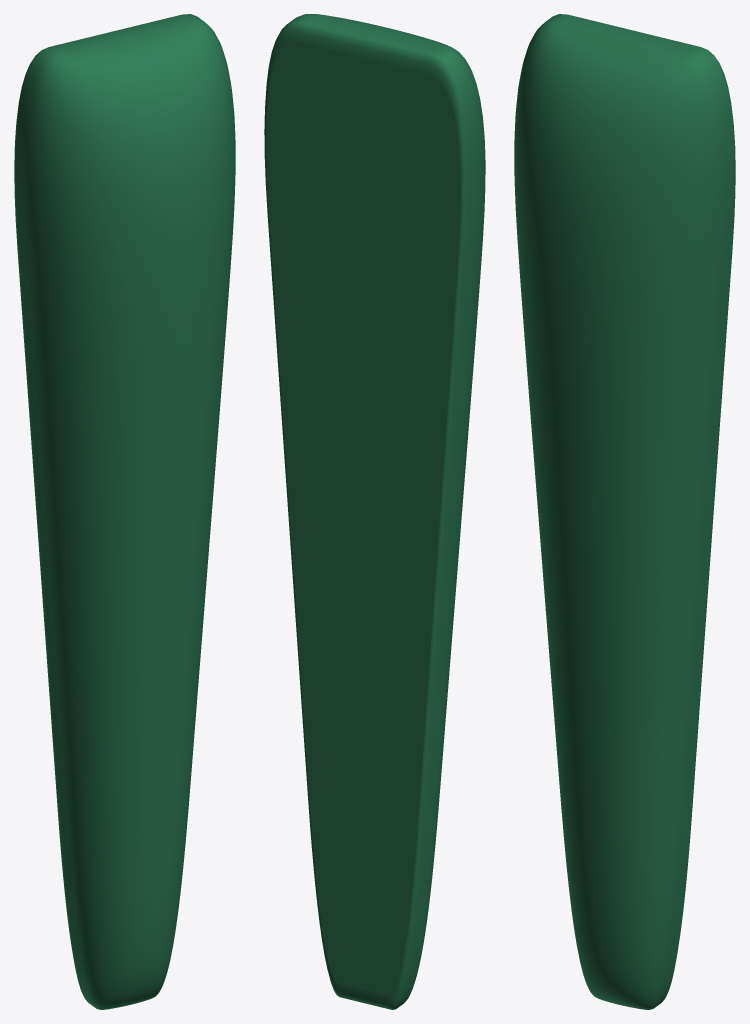
File: tapered-baton.glb
3 renders of one model, left to right at view 1: azimuth 30°, elevation 25°; view 2: azimuth 150°, elevation 25°; view 3: azimuth 330°, elevation 25°, orthographic.
Visible parts, largest first — view 1: Tapered-Baton Cabochon 32x7x3.5mm; view 2: Tapered-Baton Cabochon 32x7x3.5mm; view 3: Tapered-Baton Cabochon 32x7x3.5mm.
Boxes of the visible parts, x1,y1,x2,y2 form: Tapered-Baton Cabochon 32x7x3.5mm: [14, 14, 235, 1009]; Tapered-Baton Cabochon 32x7x3.5mm: [264, 14, 485, 1009]; Tapered-Baton Cabochon 32x7x3.5mm: [514, 14, 735, 1009].
Size of the model in its own units: 0.007 by 0.032 by 0.00349.
